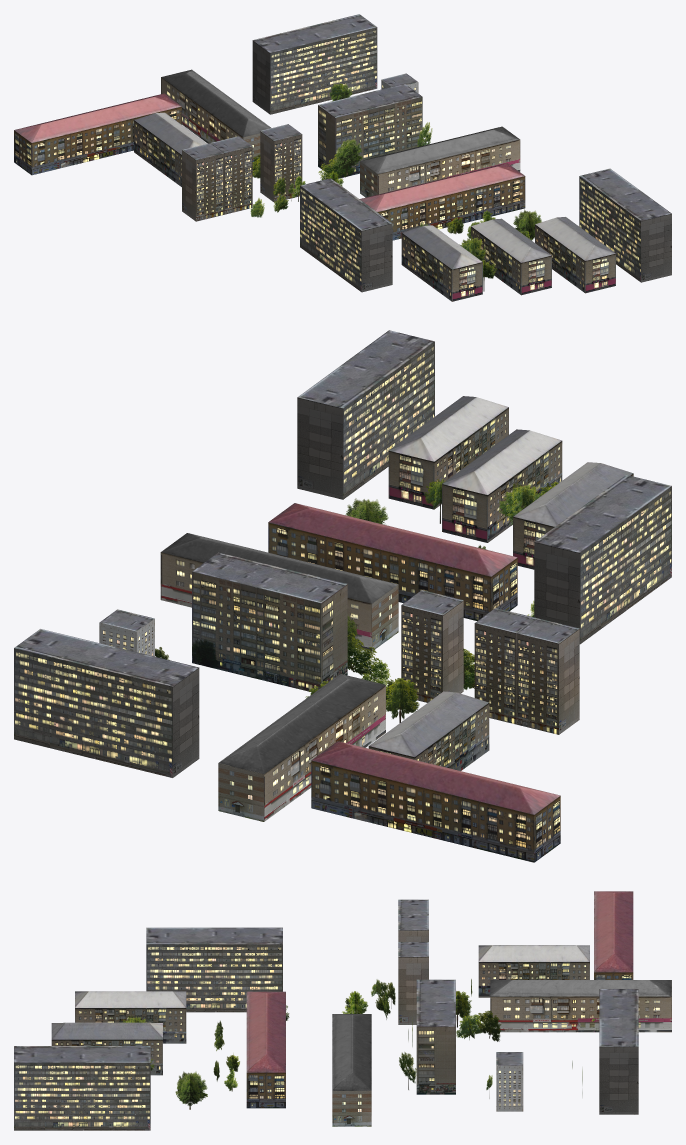
The model's file is post_soviet_lowpoly_buildings.glb.
3 views of the same model, one above another, from view 1: azimuth 30°, elevation 25°; view 2: azimuth 150°, elevation 25°; view 3: azimuth 270°, elevation 25° (orthographic). The views are drawn at different scales.
Visible parts, largest first — view 1: post-ussr.015_44, post-ussr.03_32, post-ussr.016_45, post-ussr.017_46, post-ussr.07_36, post-ussr.04_33, post-ussr.06_35, post-ussr.013_42, post-ussr.08_37, post-ussr.010_39, post-ussr.009_38, post-ussr.012_41 (+5 smaller); view 2: post-ussr.015_44, post-ussr.017_46, post-ussr.04_33, post-ussr.03_32, post-ussr.016_45, post-ussr.07_36, post-ussr.013_42, post-ussr.009_38, post-ussr.010_39, post-ussr.06_35, post-ussr.012_41, post-ussr.014_43 (+7 smaller); view 3: post-ussr.016_45, post-ussr.03_32, post-ussr.013_42, post-ussr.015_44, post-ussr.07_36, post-ussr.04_33, post-ussr.06_35, post-ussr.014_43, post-ussr.08_37, post-ussr.017_46, post-ussr.009_38, post-ussr.02_31 (+8 smaller).
Boxes of the visible parts, x1,y1,x2,y2 form: post-ussr.015_44: (252, 14, 377, 114); post-ussr.03_32: (300, 178, 392, 292); post-ussr.016_45: (579, 168, 671, 282); post-ussr.017_46: (14, 93, 181, 175); post-ussr.07_36: (359, 163, 525, 240); post-ussr.04_33: (318, 83, 422, 178); post-ussr.06_35: (360, 126, 520, 197); post-ussr.013_42: (161, 69, 271, 161); post-ussr.08_37: (401, 225, 482, 301); post-ussr.010_39: (535, 217, 615, 293); post-ussr.009_38: (471, 218, 551, 295); post-ussr.012_41: (182, 143, 224, 221); post-ussr.015_44: (14, 629, 199, 777); post-ussr.017_46: (311, 741, 560, 862); post-ussr.04_33: (192, 552, 347, 691); post-ussr.03_32: (534, 475, 671, 644); post-ussr.016_45: (297, 330, 434, 499); post-ussr.07_36: (268, 503, 517, 620); post-ussr.013_42: (218, 674, 385, 821); post-ussr.009_38: (442, 429, 562, 542); post-ussr.010_39: (388, 396, 508, 509); post-ussr.06_35: (160, 533, 398, 651); post-ussr.012_41: (517, 618, 579, 734); post-ussr.014_43: (368, 691, 489, 770); post-ussr.016_45: (14, 1046, 150, 1130); post-ussr.03_32: (146, 927, 282, 1012); post-ussr.013_42: (490, 980, 671, 1032); post-ussr.015_44: (599, 989, 638, 1114); post-ussr.07_36: (246, 991, 285, 1108); post-ussr.04_33: (416, 979, 455, 1094); post-ussr.06_35: (332, 1014, 371, 1126); post-ussr.014_43: (478, 945, 589, 997); post-ussr.08_37: (75, 991, 186, 1043); post-ussr.017_46: (594, 891, 633, 979); post-ussr.009_38: (51, 1022, 162, 1075); post-ussr.02_31: (398, 942, 428, 1024).
Bounding box in the file's own units: 8.4 × 1.57 × 11.46.
2 materials, 2 textured.
